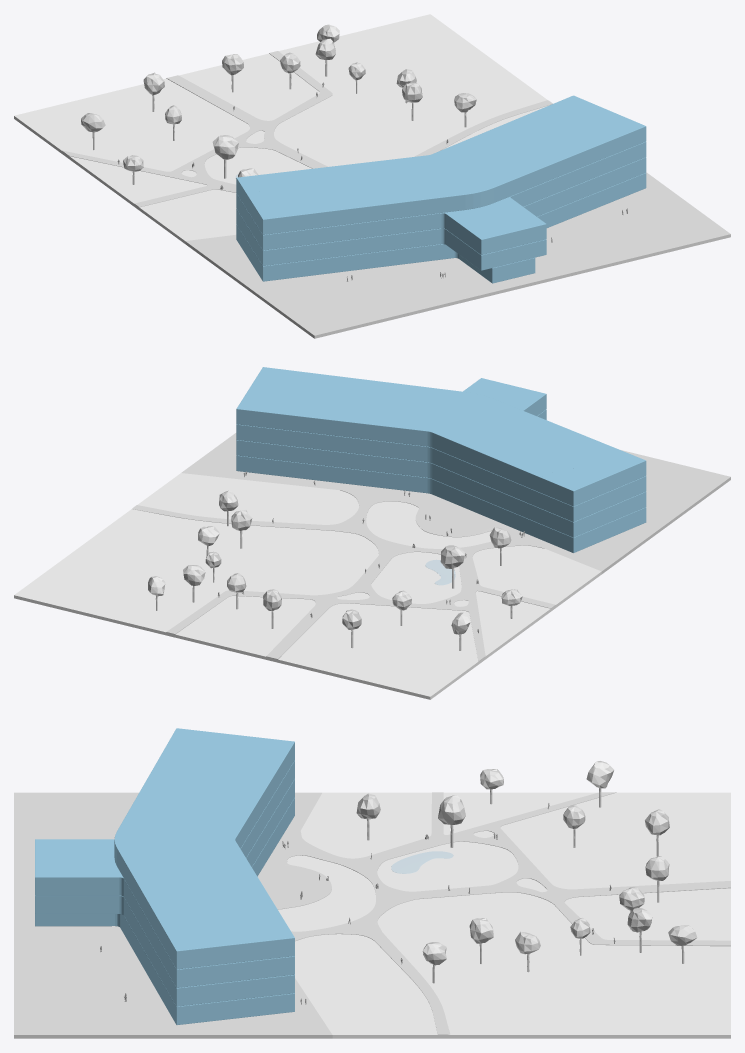
File: campus.gltf
3 views of the same model, one above another, from view 1: azimuth 30°, elevation 25°; view 2: azimuth 150°, elevation 25°; view 3: azimuth 270°, elevation 25° (orthographic). The views are drawn at different scales.
Visible parts, largest first — view 1: park, building_base, floor_3, floor_2, floor_1, floor_0, paths_Retopo, trees, corner_room; view 2: park, floor_3, paths_Retopo, building_base, floor_2, floor_1, floor_0, trees, corner_room; view 3: park, floor_3, building_base, paths_Retopo, floor_2, trees, floor_1, floor_0, corner_room, Lake_Retopo_Retopo.
Boxes of the visible parts, bbox=[...] form: park: bbox=[14, 14, 549, 243]; building_base: bbox=[185, 172, 730, 338]; floor_3: bbox=[246, 95, 646, 234]; floor_2: bbox=[236, 141, 646, 254]; floor_1: bbox=[236, 157, 646, 270]; floor_0: bbox=[236, 173, 646, 283]; paths_Retopo: bbox=[62, 51, 552, 207]; trees: bbox=[81, 24, 476, 184]; corner_room: bbox=[236, 172, 291, 207]; park: bbox=[14, 473, 601, 699]; floor_3: bbox=[236, 367, 646, 494]; paths_Retopo: bbox=[132, 490, 555, 661]; building_base: bbox=[181, 433, 730, 574]; floor_2: bbox=[236, 378, 646, 521]; floor_1: bbox=[236, 409, 646, 537]; floor_0: bbox=[236, 455, 646, 552]; trees: bbox=[148, 490, 522, 650]; corner_room: bbox=[540, 466, 600, 506]; park: bbox=[278, 792, 730, 1038]; floor_3: bbox=[114, 728, 294, 969]; building_base: bbox=[14, 792, 332, 1038]; paths_Retopo: bbox=[266, 792, 730, 1034]; floor_2: bbox=[35, 760, 294, 987]; trees: bbox=[356, 761, 697, 983]; floor_1: bbox=[35, 779, 294, 1006]; floor_0: bbox=[35, 797, 294, 1024]; corner_room: bbox=[237, 736, 294, 781]; Lake_Retopo_Retopo: bbox=[391, 851, 453, 873].
Size of the model in its own units: 2.8 by 0.42 by 3.5.
